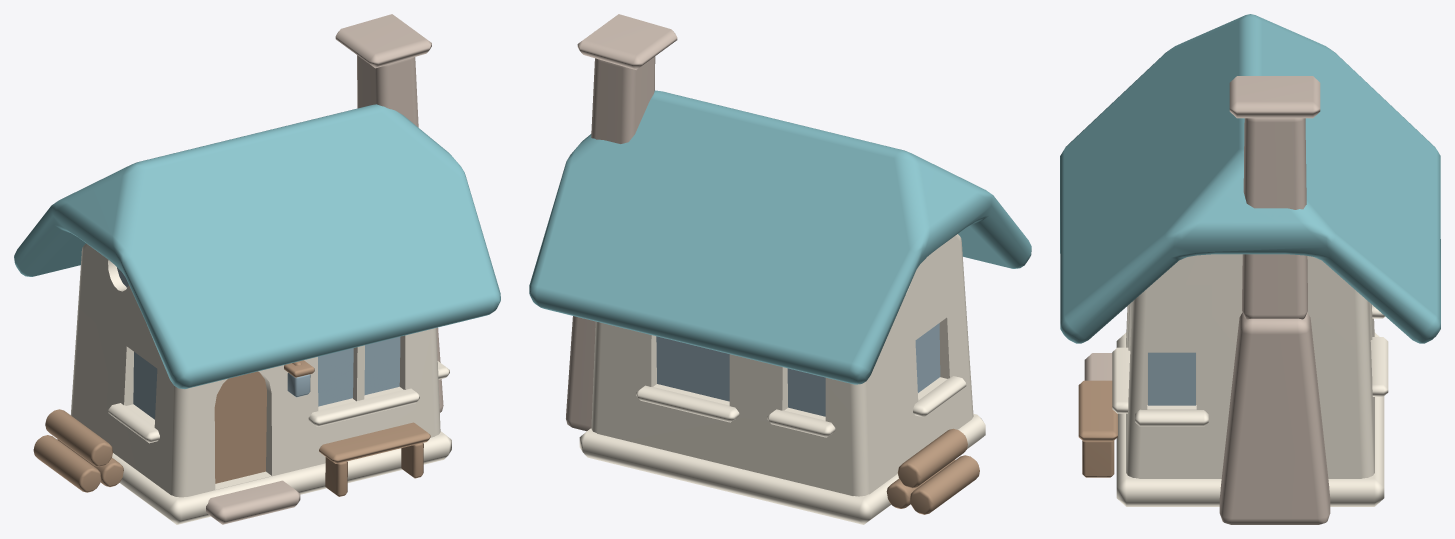
File: chunky_loaf.glb
3 views of the same model, side by side, from view 1: azimuth 30°, elevation 25°; view 2: azimuth 150°, elevation 25°; view 3: azimuth 270°, elevation 25° (orthographic). The views are drawn at different scales.
Visible parts, largest first — view 1: chunky_loaf; view 2: chunky_loaf; view 3: chunky_loaf.
Part boxes in pixels (x1,y1,x2,y2): chunky_loaf: [14, 14, 500, 524]; chunky_loaf: [529, 14, 1031, 524]; chunky_loaf: [1060, 14, 1440, 524].
Bounding box in the file's own units: 1.91 × 1.9 × 1.55.
